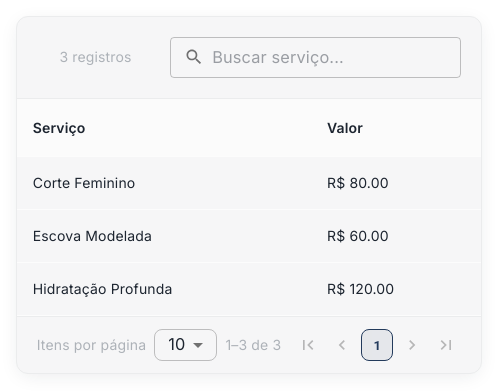
DataTable Component › filters rows locally based on search input and clears search when requested
Type "Escova" into the field with placeholder "Buscar serviço..." at x=337, y=57, box [212, 37, 461, 78]
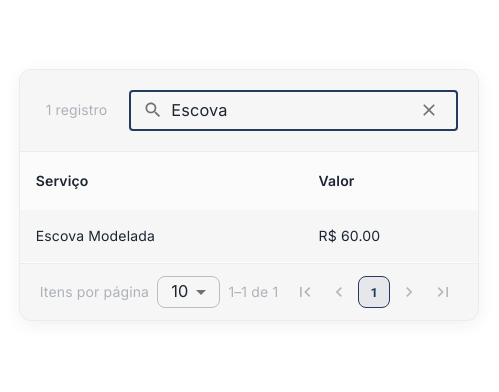
Check: the text "Escova Modelada" is shown, box [20, 209, 303, 262]
Check: the text "Corte Feminino" is gone
Check: the text "1 registro" is shown, box [46, 101, 107, 118]
Click the button named "limpar busca" at x=429, y=110, box [414, 95, 444, 125]
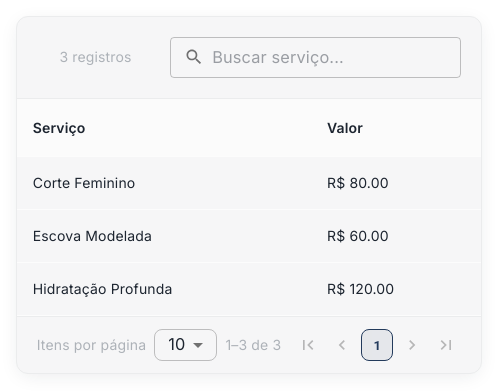
Check: the text "Corte Feminino" is shown, box [17, 156, 311, 209]
Check: the text "3 registros" is shown, box [59, 48, 132, 65]
